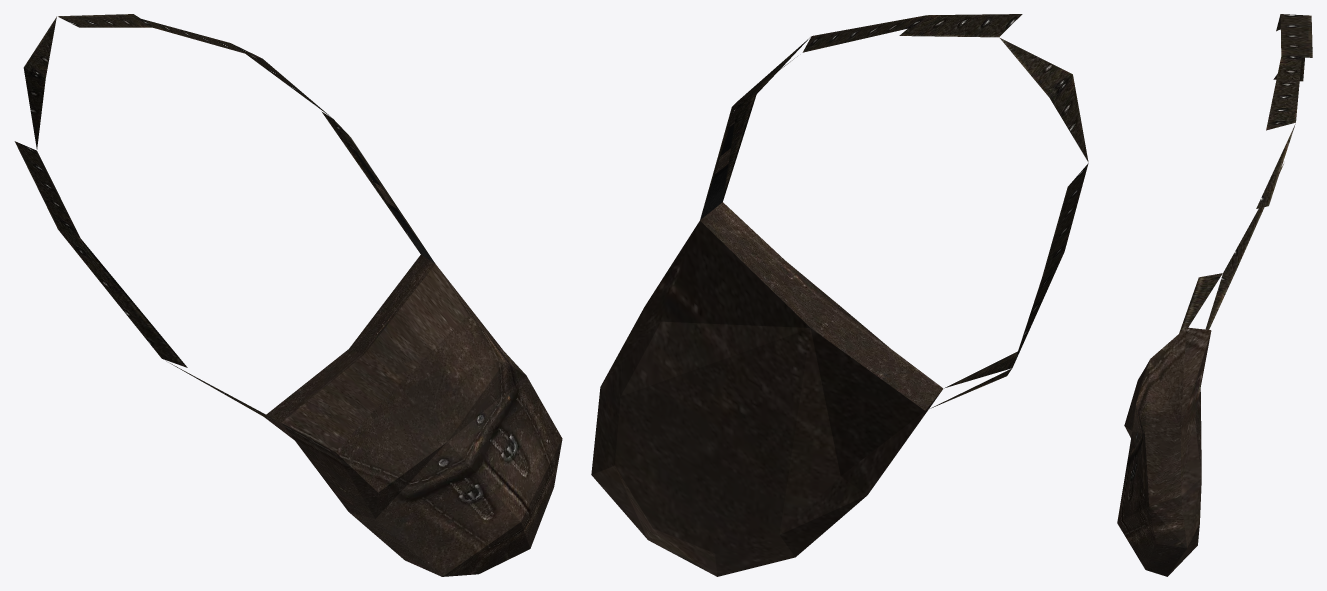
Rendered from STATIC_TORBA_02.glb.
The picture shows the model from 3 angles, left to right: view 1: azimuth 30°, elevation 25°; view 2: azimuth 150°, elevation 25°; view 3: azimuth 270°, elevation 25°; orthographic projection. The views are drawn at different scales.
Parts seen in each view (by area): view 1: STATIC_TORBA_02; view 2: STATIC_TORBA_02; view 3: STATIC_TORBA_02.
Part boxes in pixels (x1=…): STATIC_TORBA_02: x1=14, y1=14, x2=562, y2=576; STATIC_TORBA_02: x1=591, y1=14, x2=1088, y2=576; STATIC_TORBA_02: x1=1117, y1=14, x2=1312, y2=576.
Bounding box in the file's own units: 0.6324 × 0.7662 × 0.311.
Materials: 2 (2 with a texture image).
